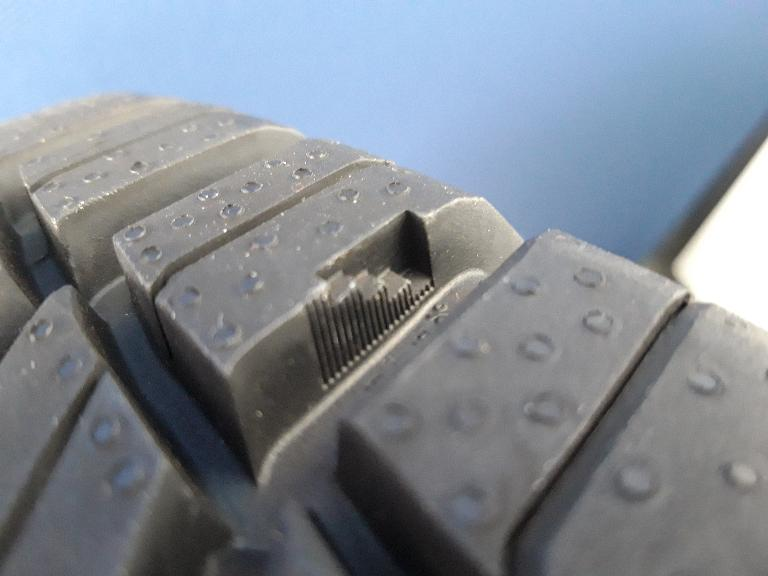temoin:100: (291, 202, 453, 402)
